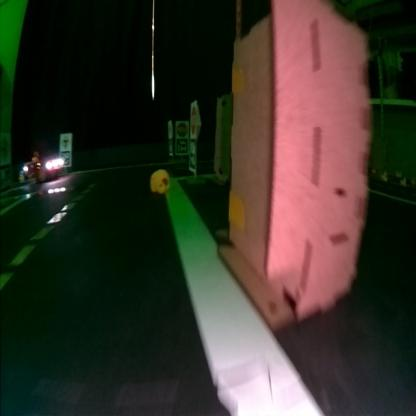Duckie: (150, 168, 171, 192)
Duckiebot: (24, 156, 64, 180)
Intersection sign: (60, 134, 72, 144)
QR code: (191, 142, 196, 172), (178, 139, 188, 153), (63, 152, 70, 164)
Stop sign: (191, 106, 197, 136), (177, 122, 188, 132)
